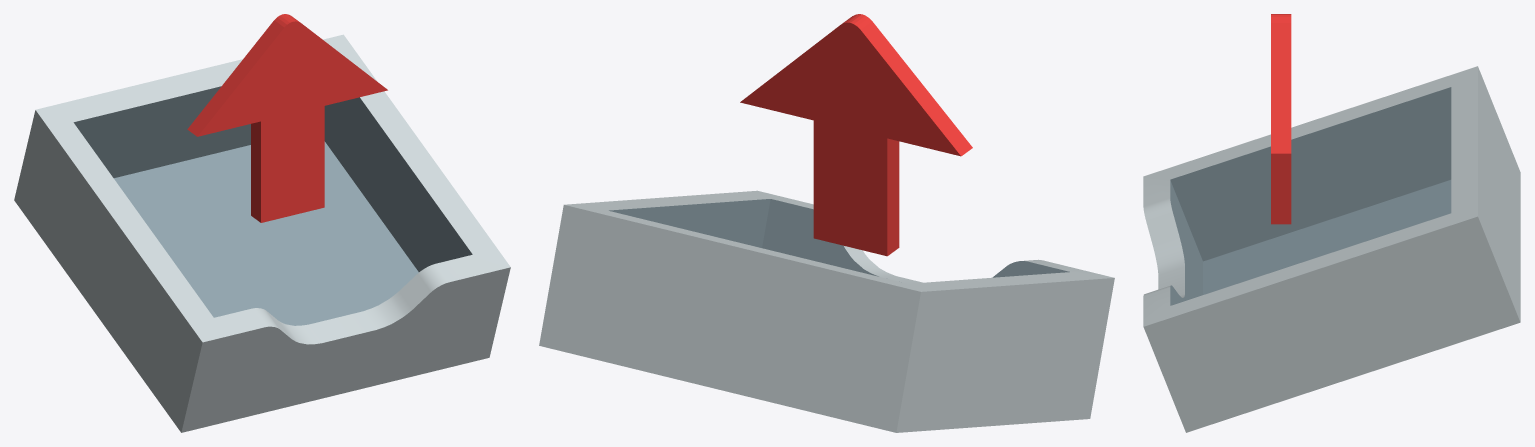
File: outbox_tray.gltf
3 views of the same model, side by side, from view 1: azimuth 30°, elevation 25°; view 2: azimuth 150°, elevation 25°; view 3: azimuth 270°, elevation 25° (orthographic). The views are drawn at different scales.
Visible parts, largest first — view 1: Cube.965, Cube.966; view 2: Cube.965, Cube.966; view 3: Cube.965, Cube.966.
Boxes of the visible parts, x1,y1,x2,y2 form: Cube.965: [14, 34, 510, 432]; Cube.966: [187, 14, 387, 222]; Cube.965: [539, 190, 1114, 432]; Cube.966: [740, 14, 972, 256]; Cube.965: [1143, 66, 1520, 432]; Cube.966: [1271, 14, 1291, 224].
Size of the model in its own units: 2 by 2.12 by 2.12.
1 material, 1 textured.
